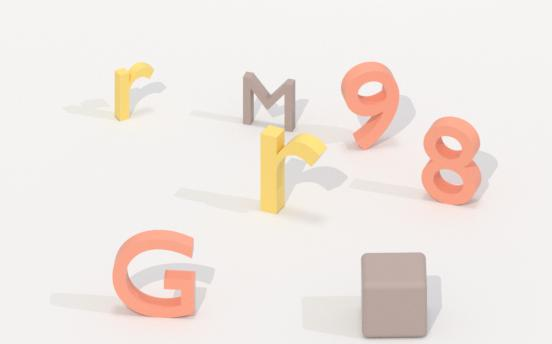8: (418, 119, 484, 208)
9: (338, 62, 406, 155)
G-hoa: (109, 227, 201, 323)
M-hoa: (238, 70, 303, 132)
R: (252, 124, 336, 218), (112, 61, 165, 123)
hop: (353, 248, 436, 340)
